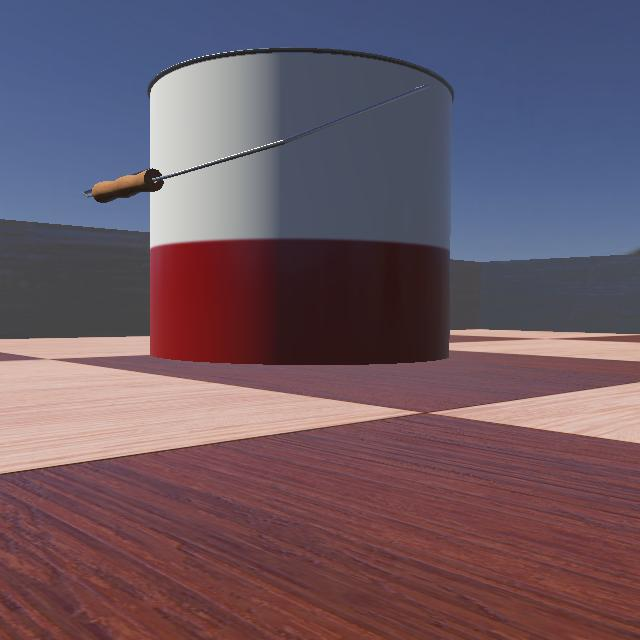paint-bucket: (0, 1, 512, 376)
